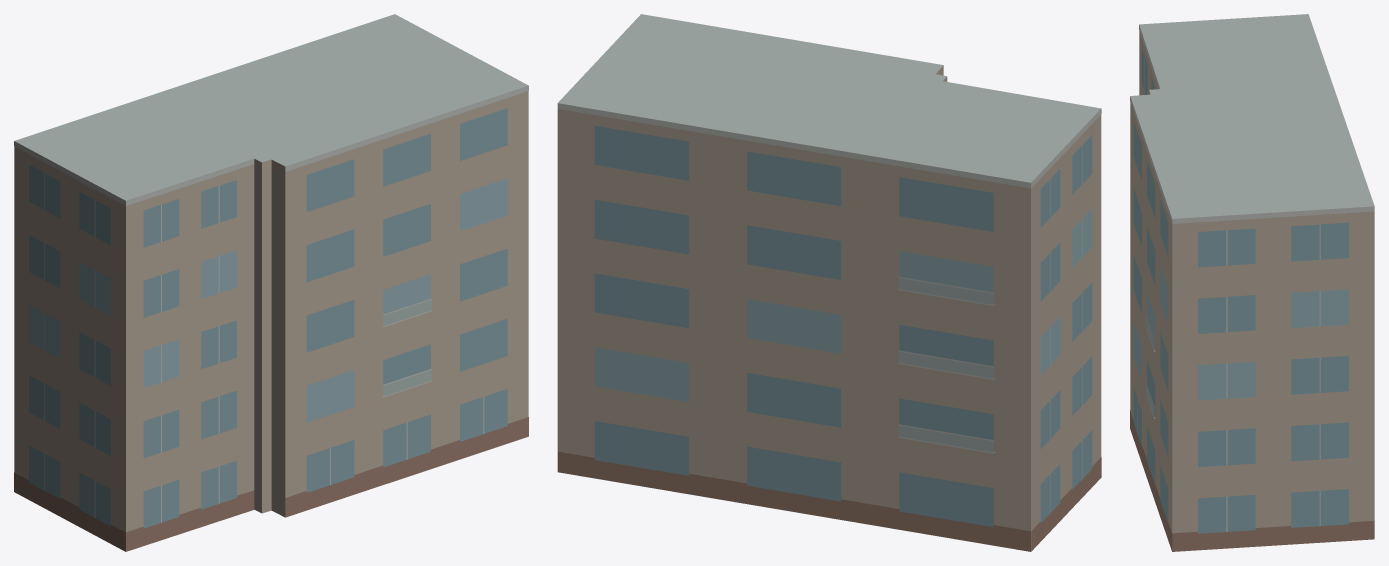
Rendered from survey-upis-32971996.glb.
The picture shows the model from 3 angles, left to right: view 1: azimuth 30°, elevation 25°; view 2: azimuth 150°, elevation 25°; view 3: azimuth 270°, elevation 25°; orthographic projection. The views are drawn at different scales.
Parts seen in each view (by area): view 1: survey-upis-32971996.tmp; view 2: survey-upis-32971996.tmp; view 3: survey-upis-32971996.tmp.
Part boxes in pixels (x1,y1,x2,y2): survey-upis-32971996.tmp: (14, 14, 528, 551); survey-upis-32971996.tmp: (557, 14, 1101, 551); survey-upis-32971996.tmp: (1130, 14, 1374, 551).
Bounding box in the file's own units: 21.06 × 15.95 × 10.63.
